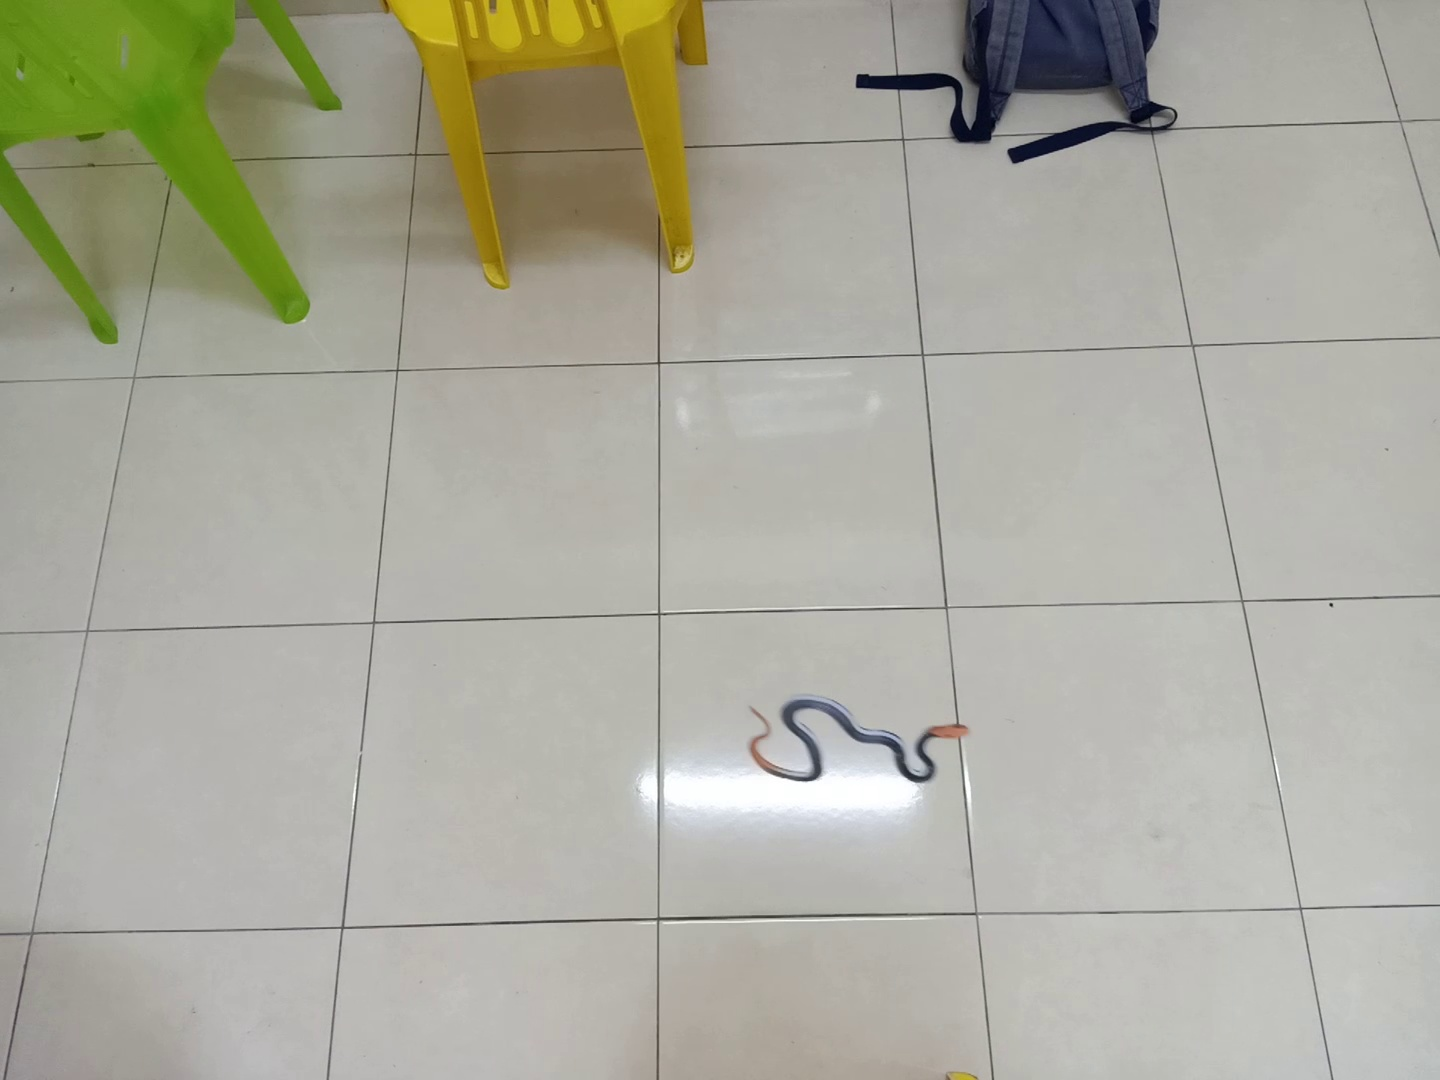snake: (740, 680, 980, 790)
